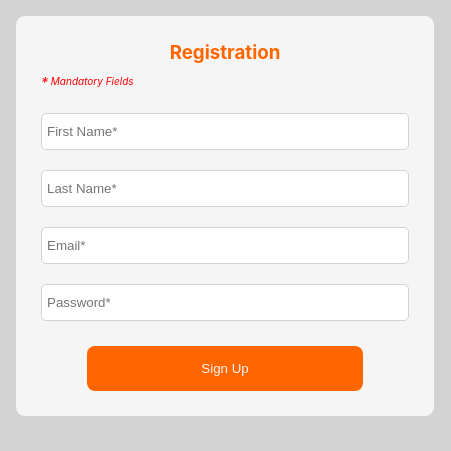
Registration component › validations for sign up › should validate incorrect email
This screenshot has width=451, height=451.
Step 1. Type "Dane.Jonas@gmail" into the field with test id "email-field" → (225, 246), box x1=41 y1=227 x2=409 y2=264
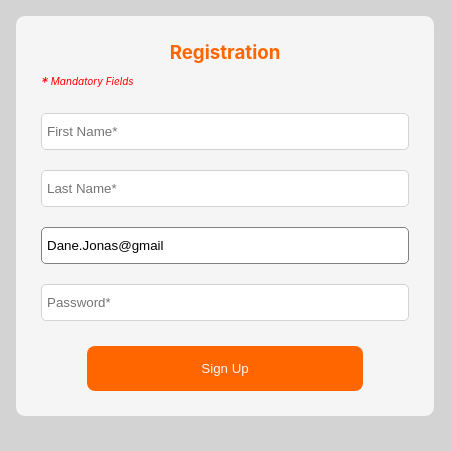
Step 2. Press Tab
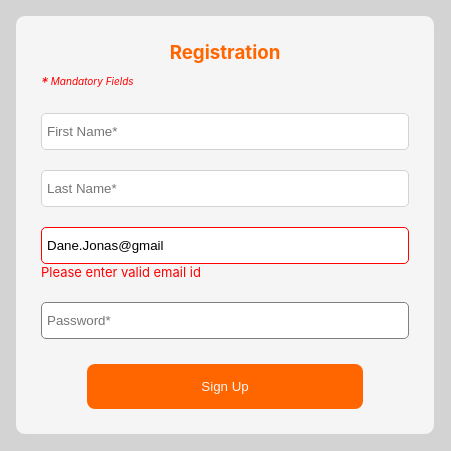
Now the text "Please enter valid email id" is shown, box x1=41 y1=264 x2=201 y2=280
